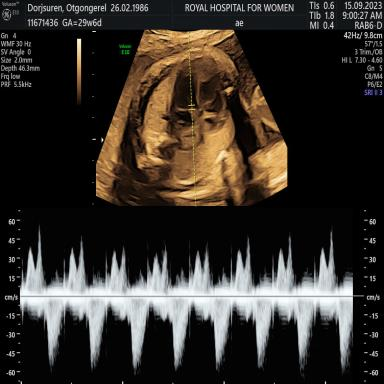Ultrasound-Waves: (27, 215, 352, 384)
